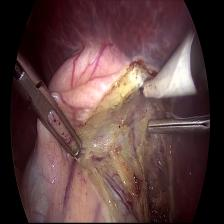Grasper: (14, 56, 90, 164), (143, 109, 209, 139)
Hook: (134, 29, 198, 103)
